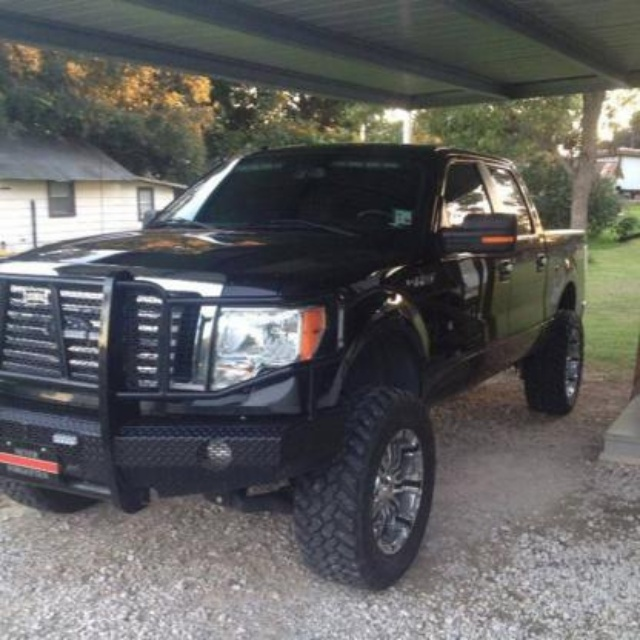Truck: (1, 136, 602, 576)
